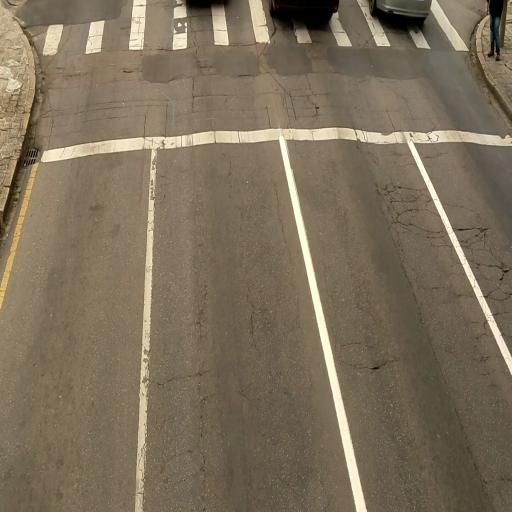car: (270, 0, 341, 24), (370, 0, 434, 26), (184, 0, 226, 8)
